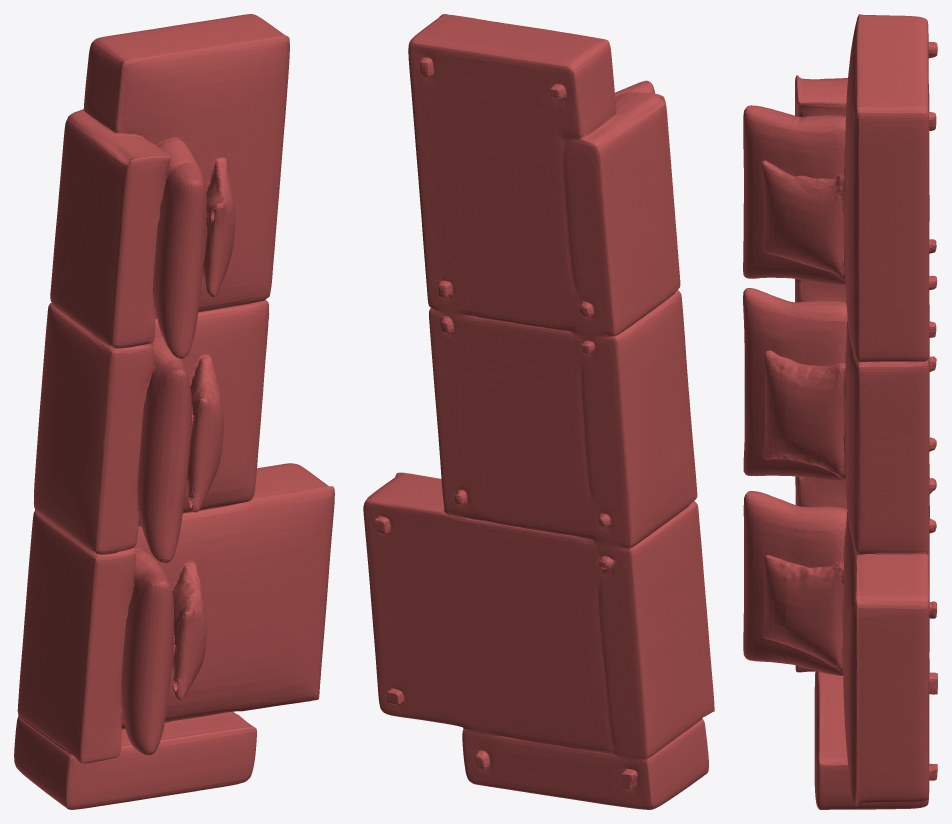
The model's file is hulls.glb.
The picture shows the model from 3 angles, left to right: view 1: azimuth 30°, elevation 25°; view 2: azimuth 150°, elevation 25°; view 3: azimuth 270°, elevation 25°; orthographic projection. The views are drawn at different scales.
Bounding box in the file's own units: 1.46 × 3.54 × 0.839.
